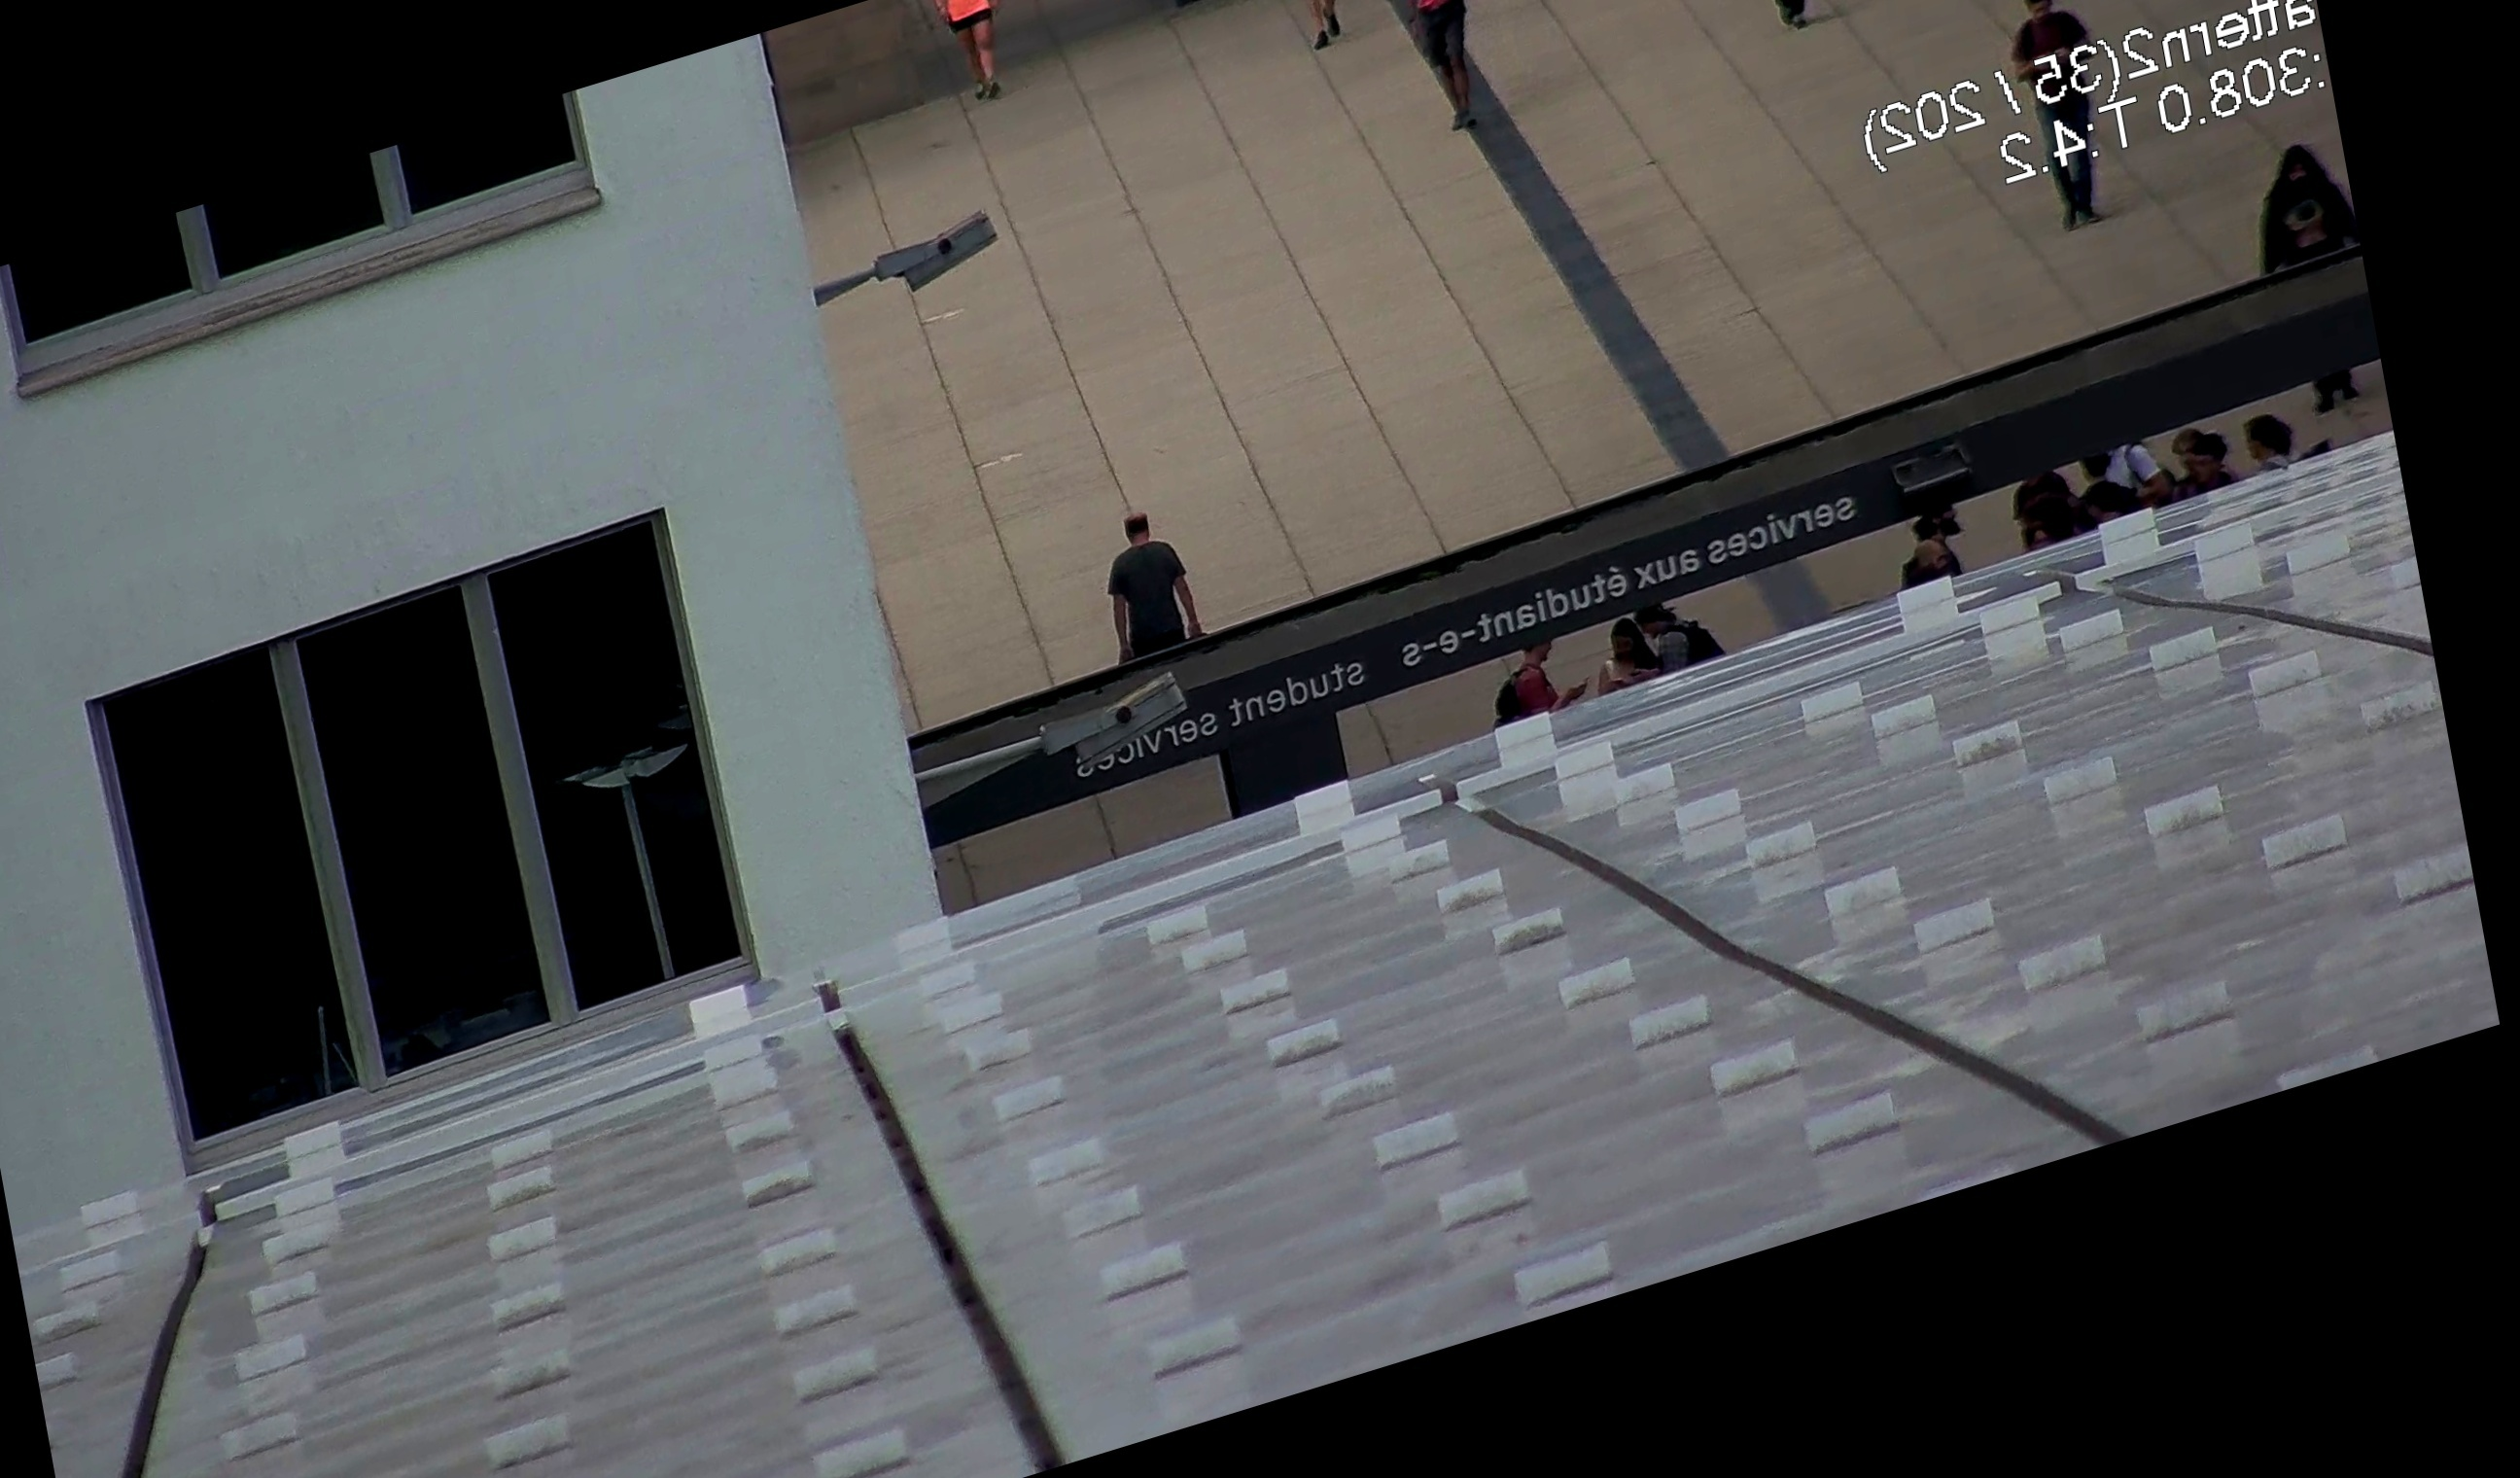Other: (2239, 116, 2379, 287), (1300, 612, 1409, 758)
